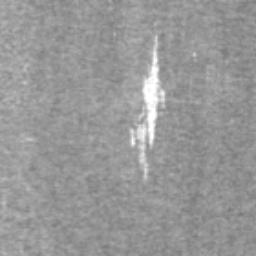White rust: (137, 45, 159, 164)
